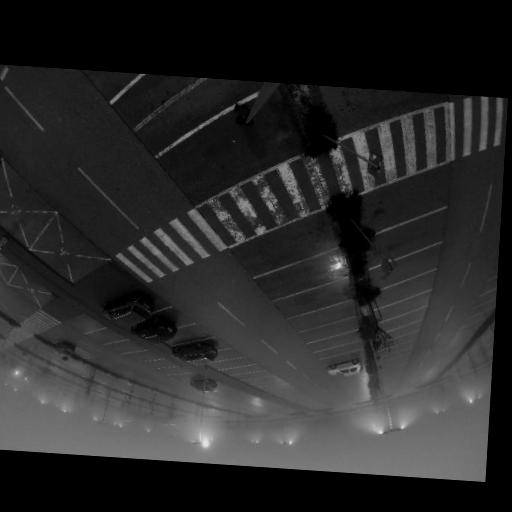busy: (104, 293, 155, 327), (173, 339, 221, 368), (134, 315, 182, 343), (328, 360, 364, 379), (193, 378, 219, 393)
free: (198, 123, 251, 172), (258, 232, 301, 265), (379, 185, 419, 219), (388, 221, 416, 258), (284, 267, 312, 289), (389, 260, 412, 281), (299, 292, 324, 309), (391, 284, 410, 302), (311, 311, 331, 326), (172, 329, 191, 343), (390, 301, 407, 316), (73, 318, 93, 330), (391, 318, 408, 332), (95, 330, 113, 341), (323, 337, 340, 348), (315, 326, 333, 336), (168, 364, 184, 374), (114, 342, 131, 351), (135, 352, 150, 361), (333, 354, 347, 363), (395, 328, 407, 338), (153, 360, 168, 368), (329, 347, 342, 355), (218, 351, 230, 359), (227, 360, 239, 367)
